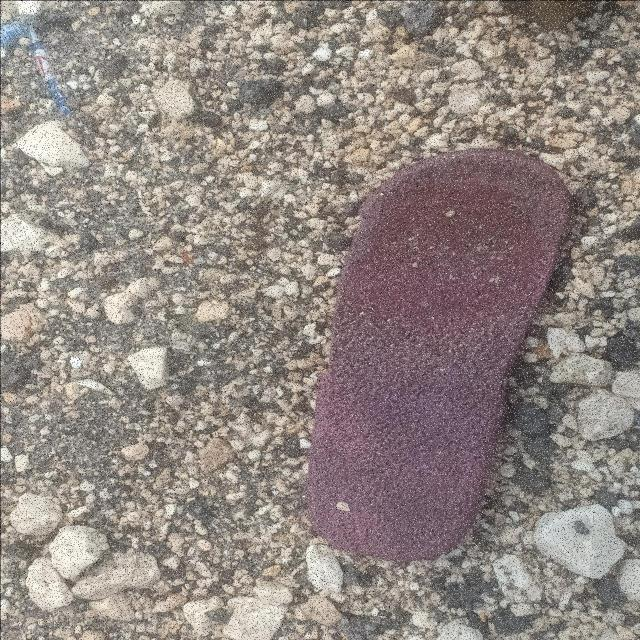rubber_waste: (306, 148, 574, 562)
